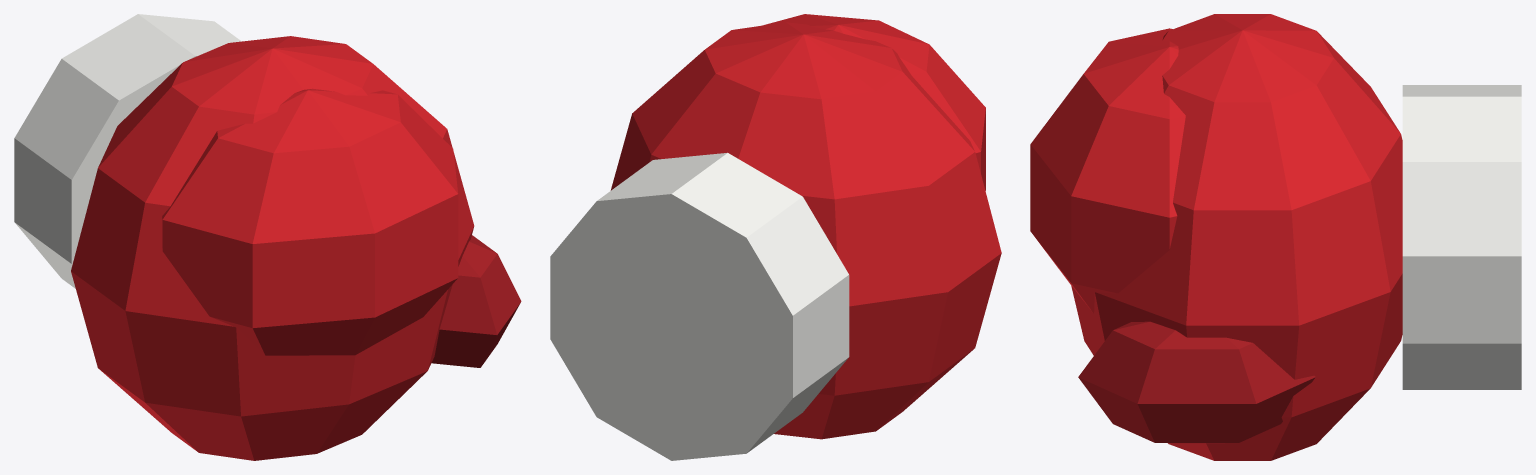
File: boxing_glove.glb
3 renders of one model, left to right at view 1: azimuth 30°, elevation 25°; view 2: azimuth 150°, elevation 25°; view 3: azimuth 270°, elevation 25°, orthographic. The views are drawn at different scales.
Parts seen in each view (by area): view 1: BoxingGlove; view 2: BoxingGlove; view 3: BoxingGlove.
Part boxes in pixels (x1,y1,x2,y2): BoxingGlove: [14, 14, 521, 460]; BoxingGlove: [550, 14, 1001, 460]; BoxingGlove: [1030, 14, 1521, 460].
Bounding box in the file's own units: 0.4875 × 0.5 × 0.5372.
